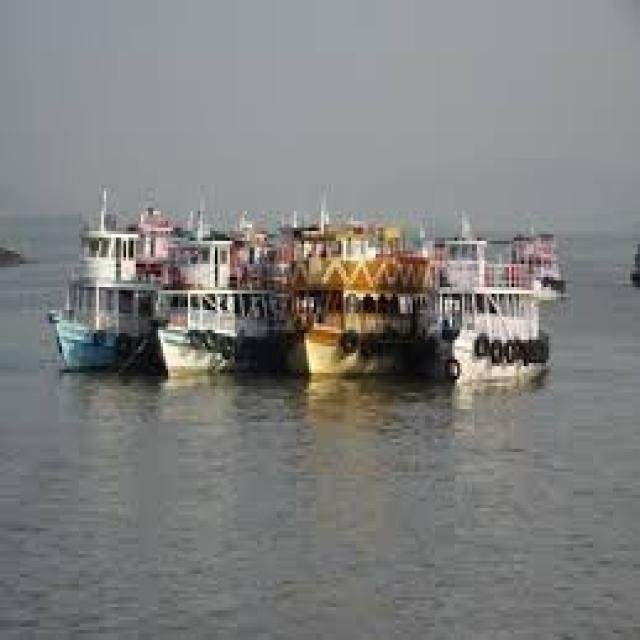fishing boat: (390, 193, 567, 392), (256, 216, 416, 374), (146, 209, 280, 379), (28, 188, 149, 366)
